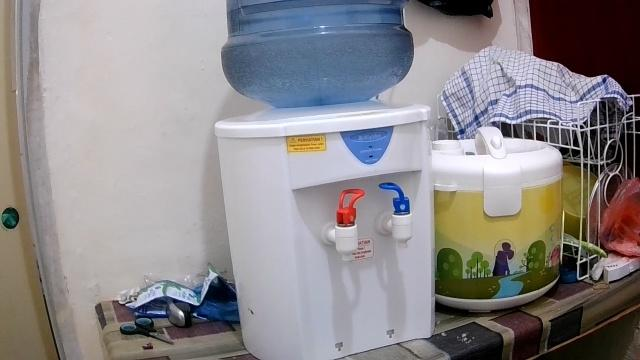Dispenser: (213, 0, 435, 358)
